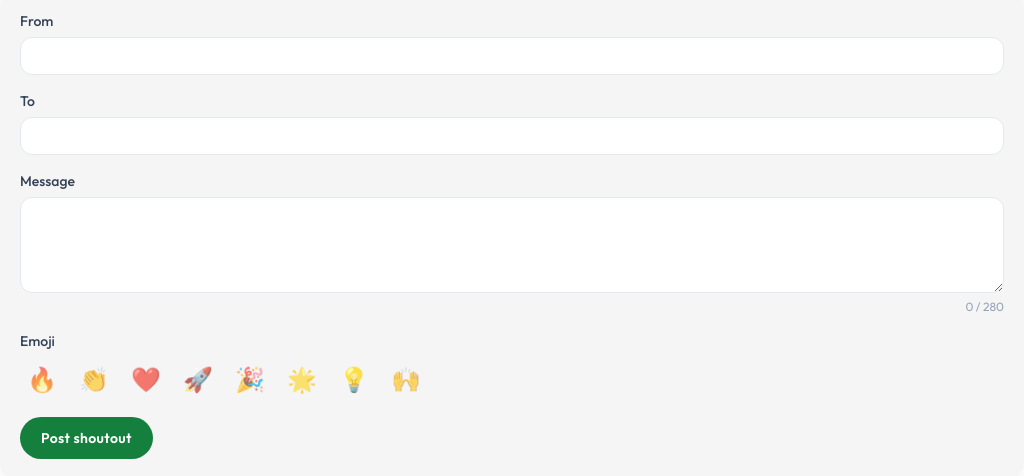
Test: ShoutoutForm › shows the live character counter updating as the user types
Expected: the text "0 / 280" is shown, [966,299,1004,314]
In the text box labelled "Message": (512, 245) [20,197,1004,293], type "Hello team"
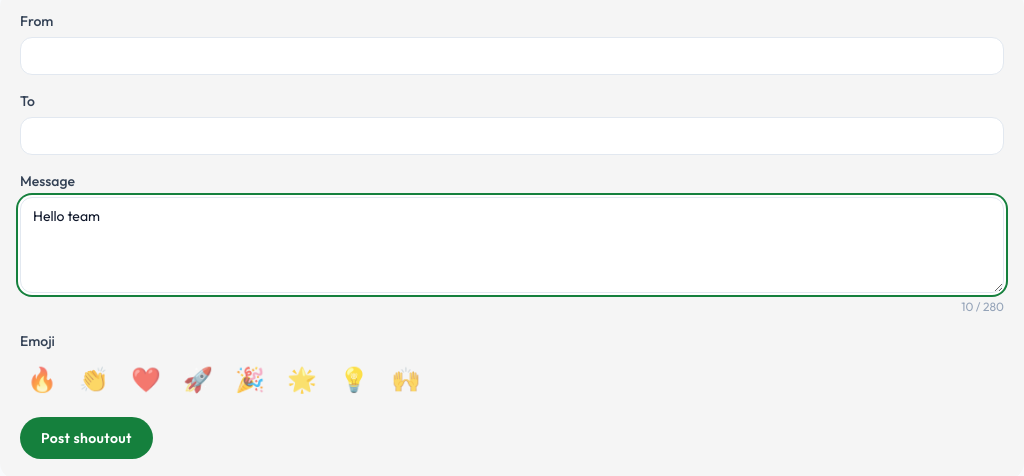
Expected: the text "10 / 280" is shown, [961,299,1004,314]
